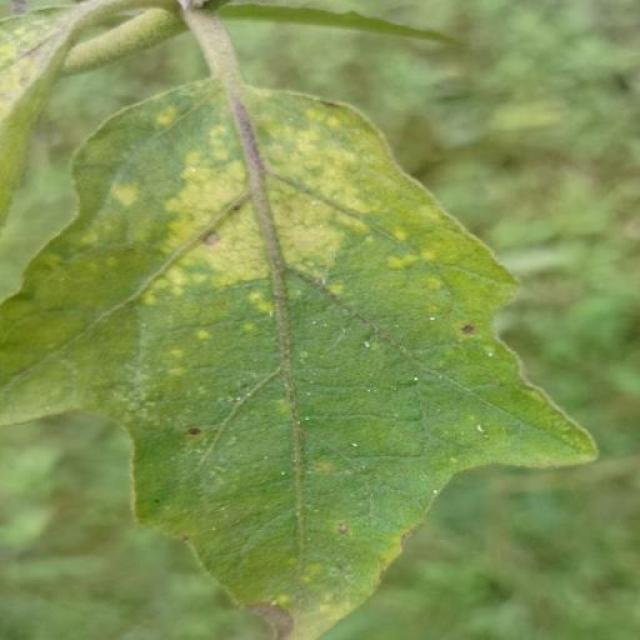leaf_spot: (157, 136, 363, 288), (0, 1, 66, 222), (367, 143, 463, 292), (96, 295, 182, 427), (267, 553, 364, 620), (293, 96, 380, 160), (428, 283, 490, 359), (356, 324, 398, 411), (366, 388, 425, 449), (541, 402, 599, 463), (205, 94, 269, 146), (453, 227, 499, 298), (327, 514, 388, 552), (141, 96, 198, 133), (110, 167, 145, 221), (456, 401, 496, 448), (243, 285, 284, 321), (523, 372, 548, 420), (307, 454, 352, 478), (178, 421, 218, 448), (165, 342, 188, 383), (273, 391, 300, 423), (136, 280, 160, 314), (76, 222, 100, 246), (185, 325, 218, 341), (101, 252, 126, 270), (41, 250, 63, 269), (239, 317, 261, 333)
